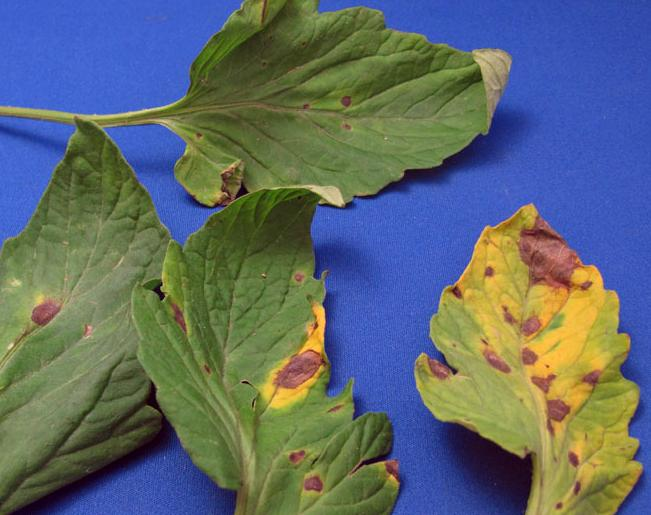Tomato Early blight leaf: (139, 0, 563, 219), (142, 184, 403, 515), (422, 193, 651, 515), (0, 115, 168, 515)
